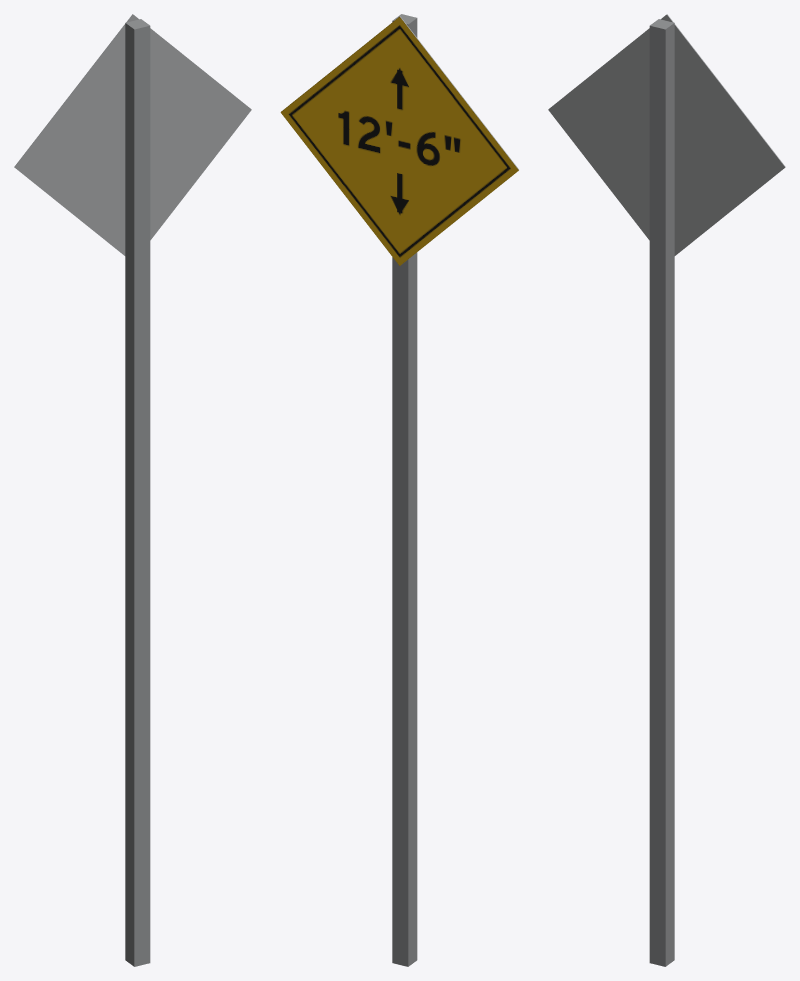
File: sign_w12-2_low_clearance.glb
3 views of the same model, side by side, from view 1: azimuth 30°, elevation 25°; view 2: azimuth 150°, elevation 25°; view 3: azimuth 330°, elevation 25° (orthographic).
Parts seen in each view (by area): view 1: sign_w12-2_low_clearance; view 2: sign_w12-2_low_clearance; view 3: sign_w12-2_low_clearance.
Boxes of the visible parts, box(x1,y1,x2,y2) form: sign_w12-2_low_clearance: box(14, 14, 251, 966); sign_w12-2_low_clearance: box(280, 14, 518, 966); sign_w12-2_low_clearance: box(548, 14, 785, 966).
Size of the model in its own units: 0.762 by 2.9 by 0.0538.
3 materials, 1 textured.
